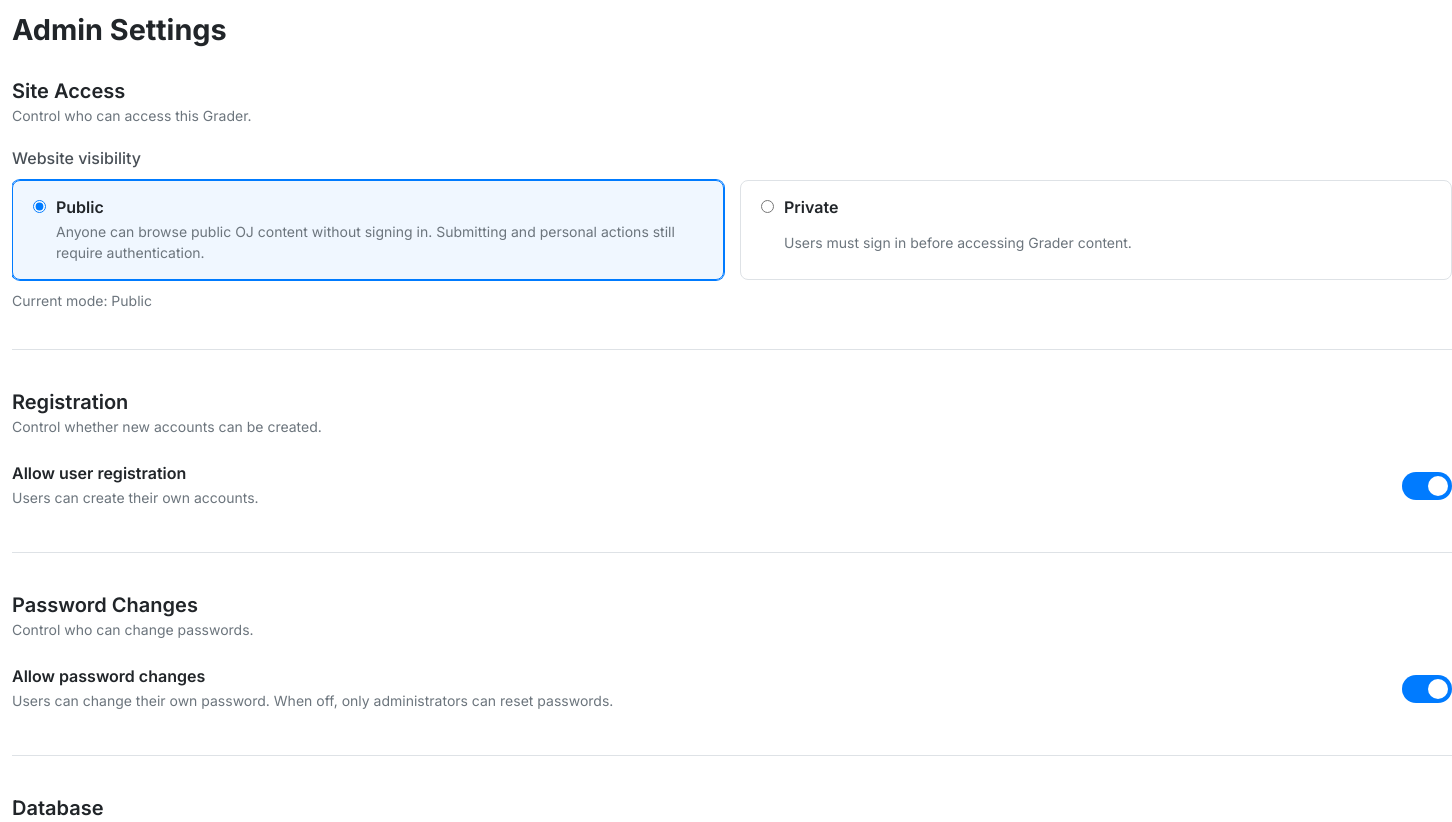
Settings page › registration toggle › shows an error and keeps the current state when the update fails
What coordinates should you click on to do the following:
click the checkbox labelled "Allow user registration"
I would click on:
 (99, 473)
Its box is [12,463,186,483].
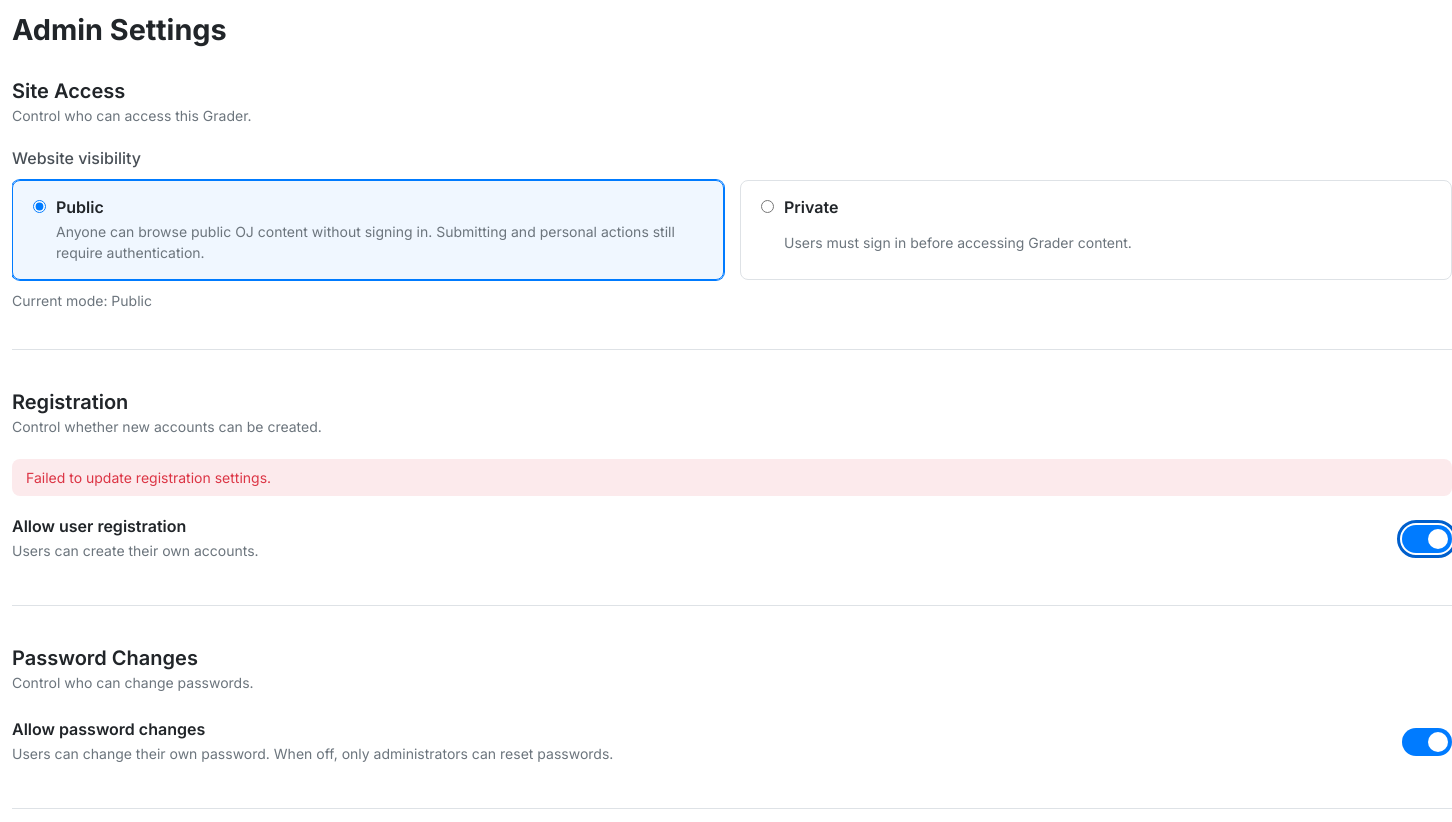
Expected: the checkbox labelled "Allow user registration" is checked, [12,516,186,536]
Now the text "Failed to update registration settings." is shown, box [12,459,1451,496]
